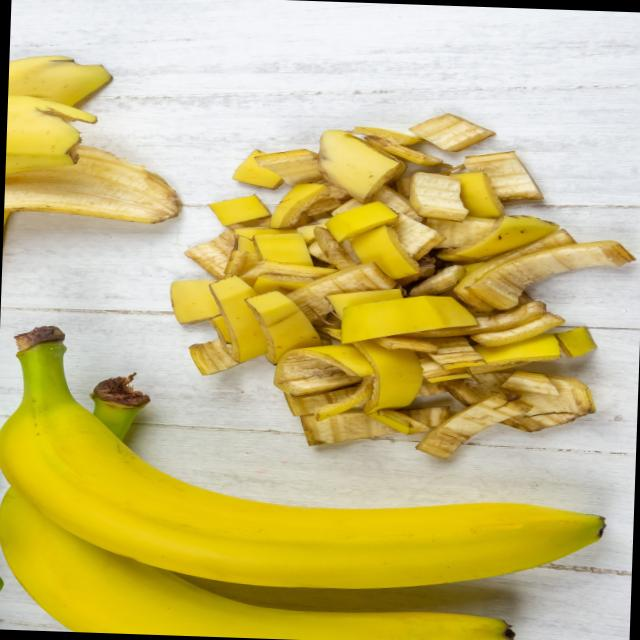banana_peel: (154, 101, 640, 462), (0, 318, 624, 591)
